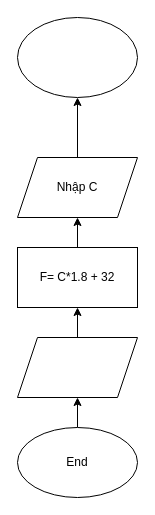
The diagram is 155 pixels wide and 515 high, and some of its shapes have lost their labels. The box of each missing label's shape, as (x1, y1, x2, y2) in pixels:
begin: (16, 16, 138, 98)
In F: (16, 336, 138, 398)
